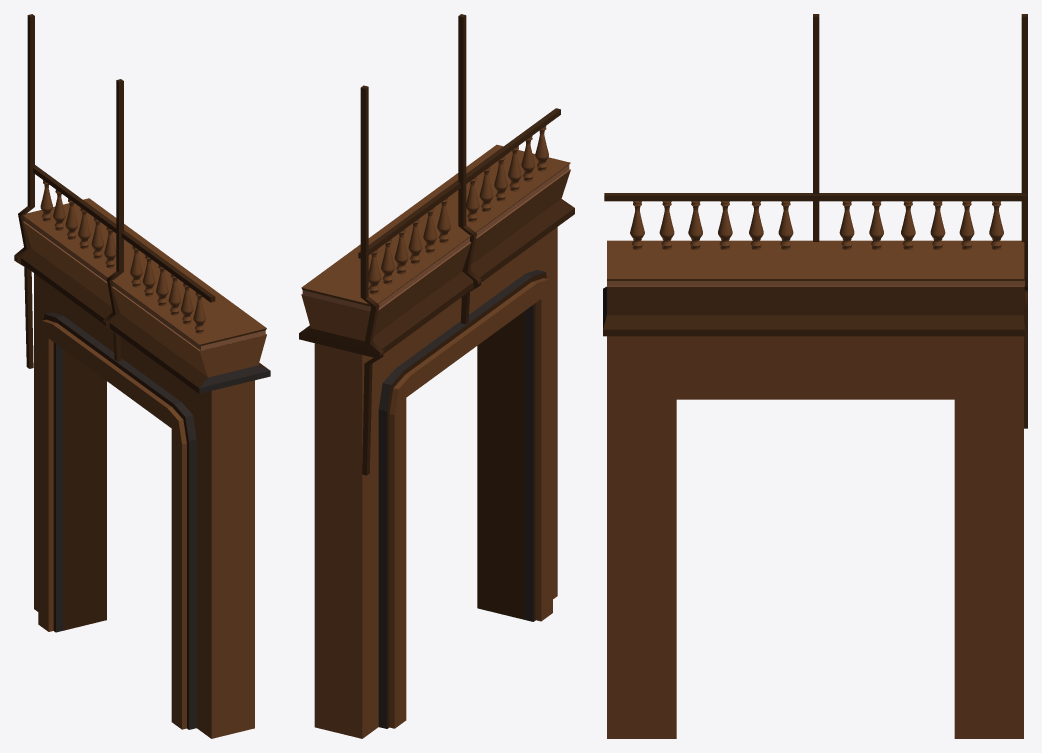
Rendered from muur_inbetweens.fbx.
The picture shows the model from 3 angles, left to right: view 1: azimuth 30°, elevation 25°; view 2: azimuth 150°, elevation 25°; view 3: azimuth 270°, elevation 25°; orthographic projection. The views are drawn at different scales.
Visible parts, largest first — view 1: pCube13, main_closet1, fence_and_wire_detail1; view 2: pCube13, main_closet1, fence_and_wire_detail1; view 3: pCube13, main_closet1, fence_and_wire_detail1.
Boxes of the visible parts, x1,y1,x2,y2 form: pCube13: (34, 273, 254, 738); main_closet1: (21, 198, 270, 393); fence_and_wire_detail1: (14, 14, 215, 368); pCube13: (314, 227, 557, 738); main_closet1: (299, 144, 574, 357); fence_and_wire_detail1: (358, 14, 560, 475); pCube13: (607, 336, 1023, 738); main_closet1: (603, 240, 1024, 336); fence_and_wire_detail1: (604, 14, 1027, 428).
Size of the model in its own units: 2.9 by 21.83 by 12.05.
